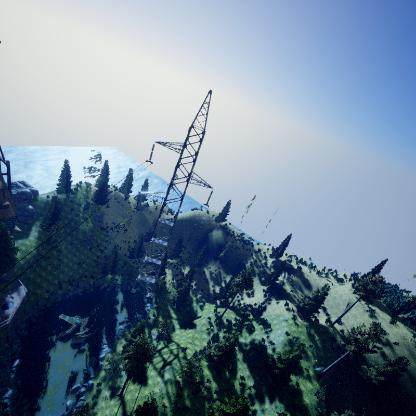tower: (127, 87, 220, 303)
